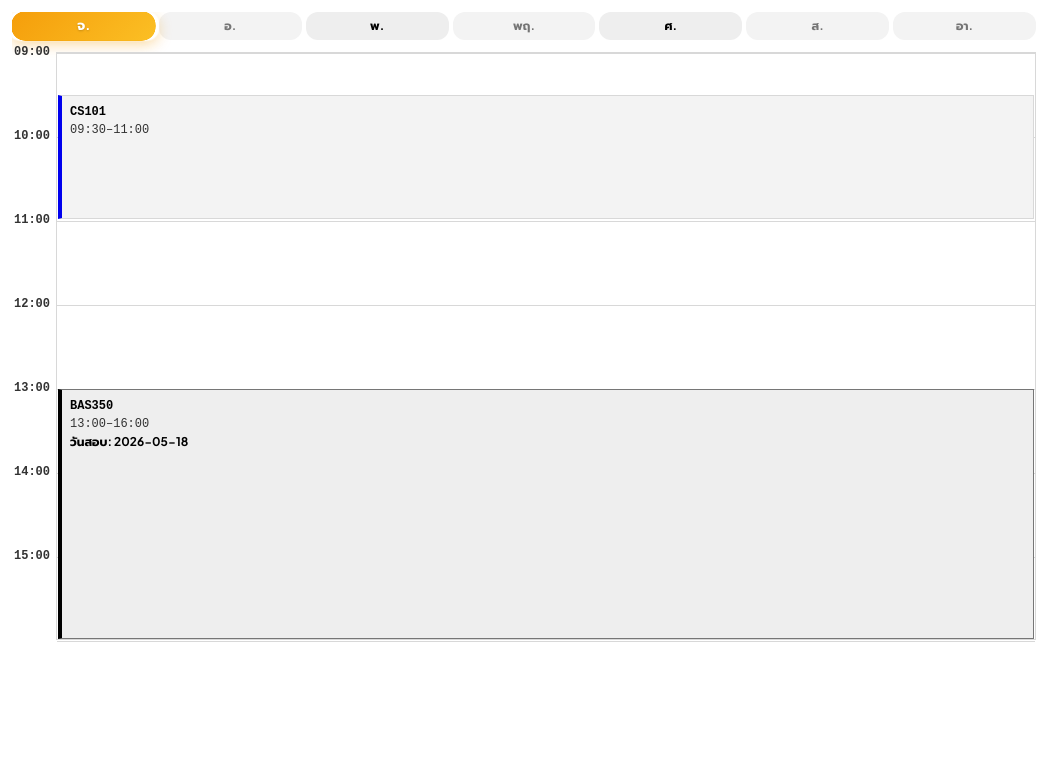
Test: WeeklyTimetable › day layout (mobile) › shows a message for a day with no entries
Click the tab with aria-label "วันอาทิตย์" at {"x": 965, "y": 26}, box [893,12,1036,40]
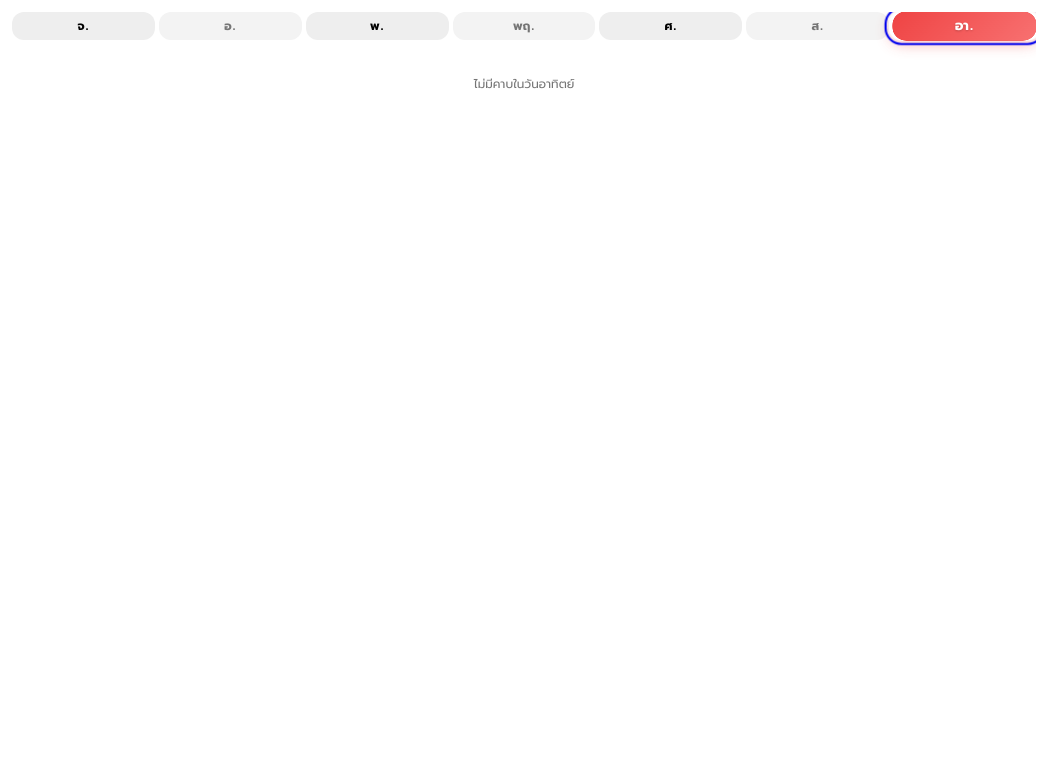
Check: the text "ไม่มีคาบในวันอาทิตย์" is shown, box [474,76,574,91]
